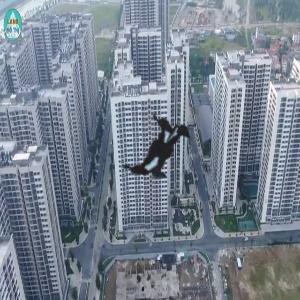drone: (59, 45, 266, 252)
